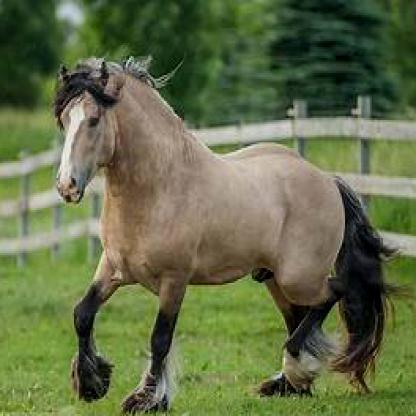horse: (53, 58, 383, 412)
